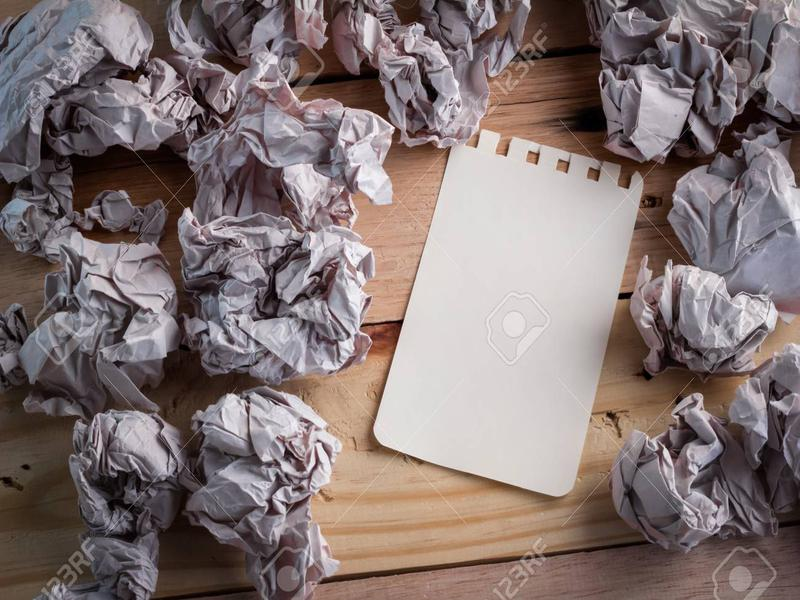paper: (368, 126, 645, 503), (1, 191, 178, 413), (1, 1, 198, 191), (176, 57, 403, 219), (173, 208, 383, 380), (185, 385, 350, 597), (600, 391, 783, 566), (333, 1, 545, 150), (588, 6, 757, 177), (661, 125, 800, 306), (627, 248, 783, 387), (58, 408, 195, 541)
